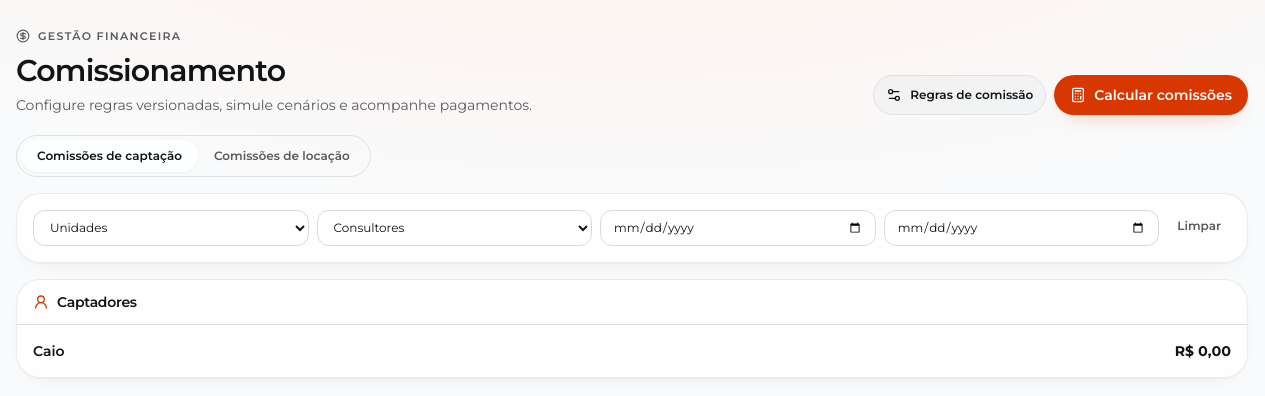
Scenario: construtor e simulador de comissão › exibe somente as abas por tipo e os filtros solicitados
Expected: the heading "Comissionamento" is shown, x1=16 y1=52 x2=285 y2=88
Expected: the tab "Comissões de captação" is shown, x1=21 y1=140 x2=198 y2=172
What coordinates should you click on to do the following:
click the tab "Comissões de locação"
I would click on:
 (282, 156)
Its box is x1=198 y1=140 x2=366 y2=172.
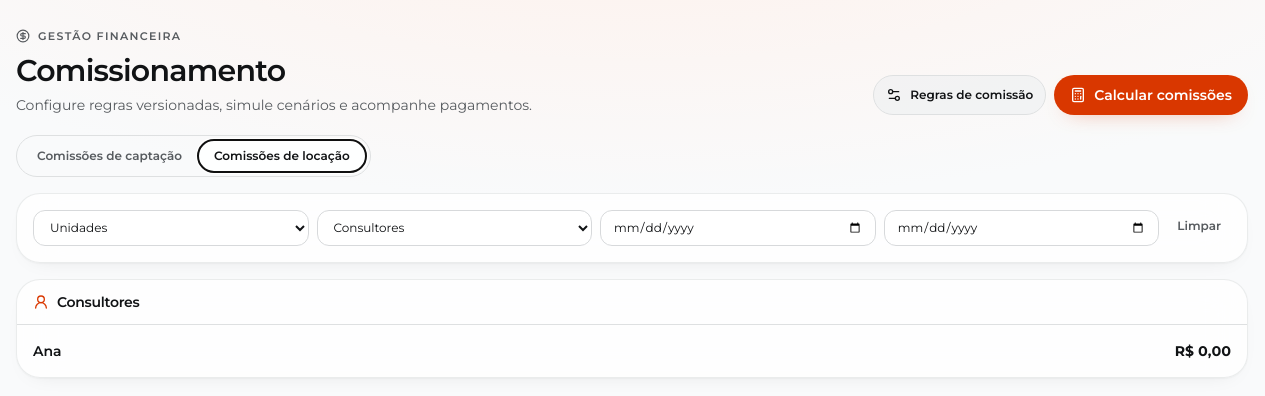
Expected: the dropdown named "Filtrar por unidade" is shown, x1=33 y1=210 x2=308 y2=246
Now the button with aria-label "Abrir comissões de Ana" is shown, box x1=17 y1=324 x2=1247 y2=376
